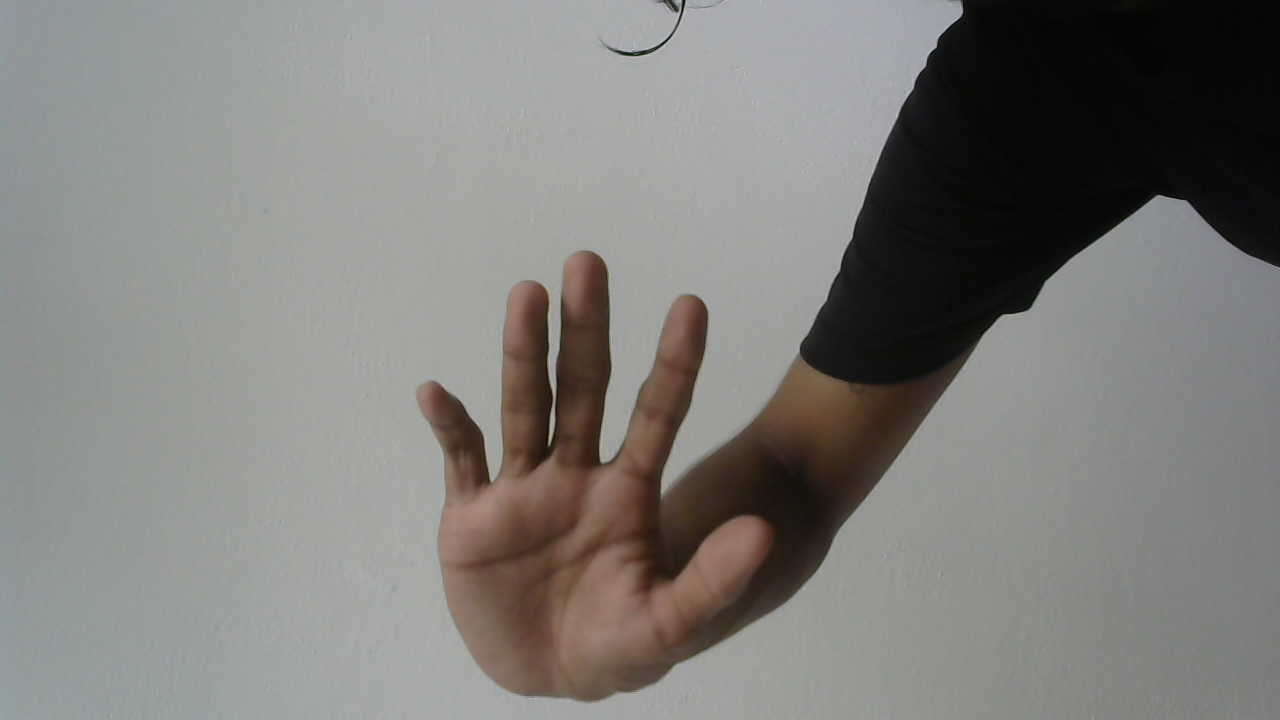hello: (404, 244, 785, 710)
